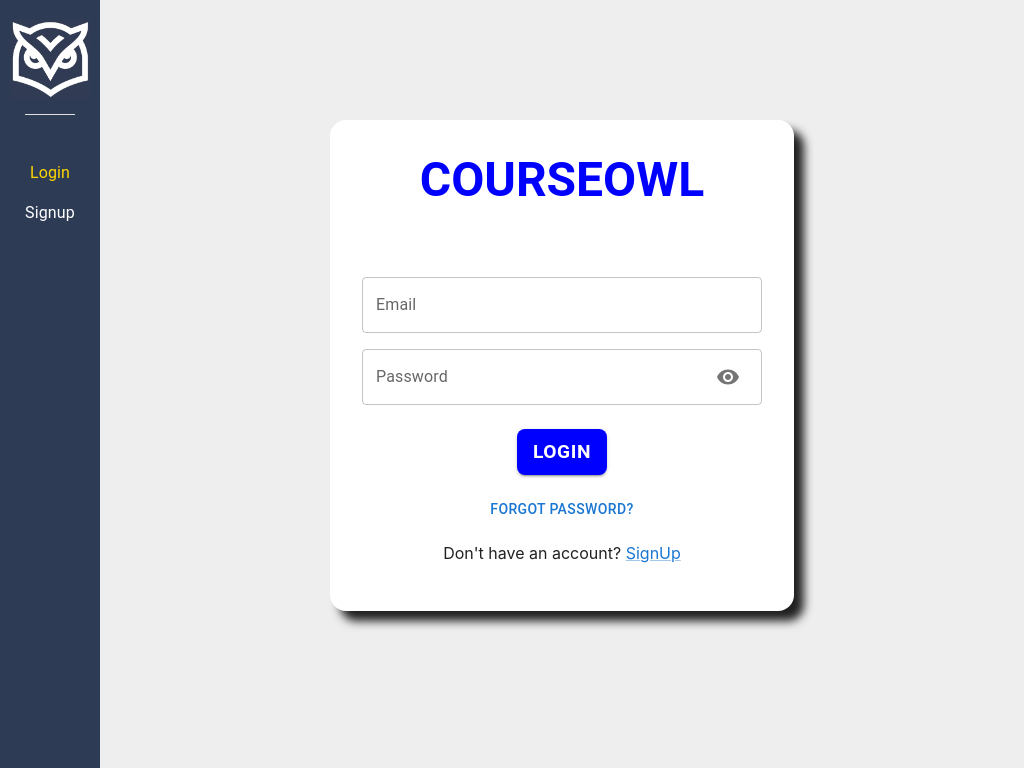
Test case: Login Page › should display error message if email is empty
Click the button "Login" at (562, 452), box x1=517 y1=429 x2=607 y2=475
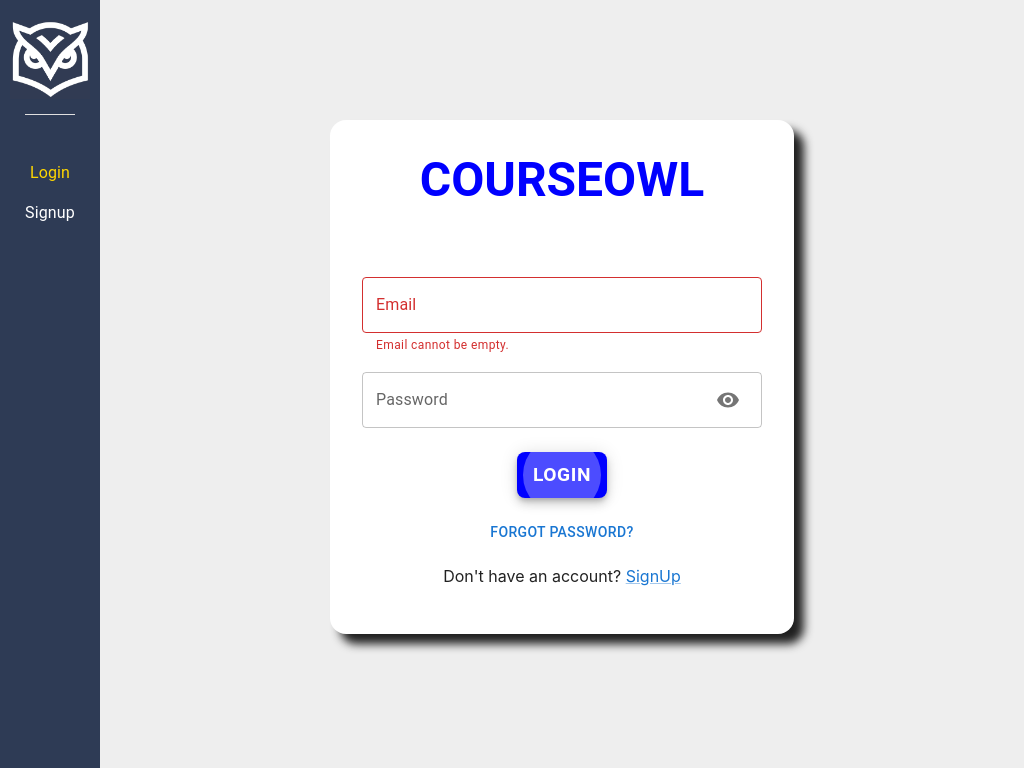
Now the text "Email cannot be empty" is shown, box x1=376 y1=338 x2=509 y2=352
